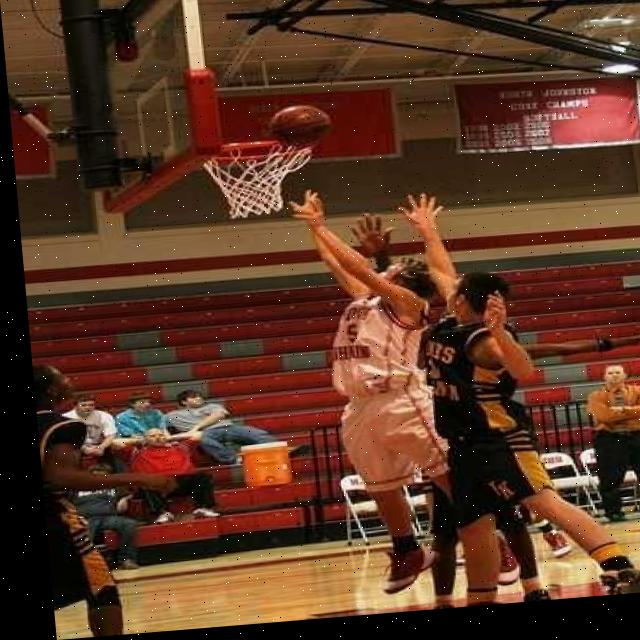basketball: (269, 99, 335, 150)
hoop: (201, 134, 320, 223)
